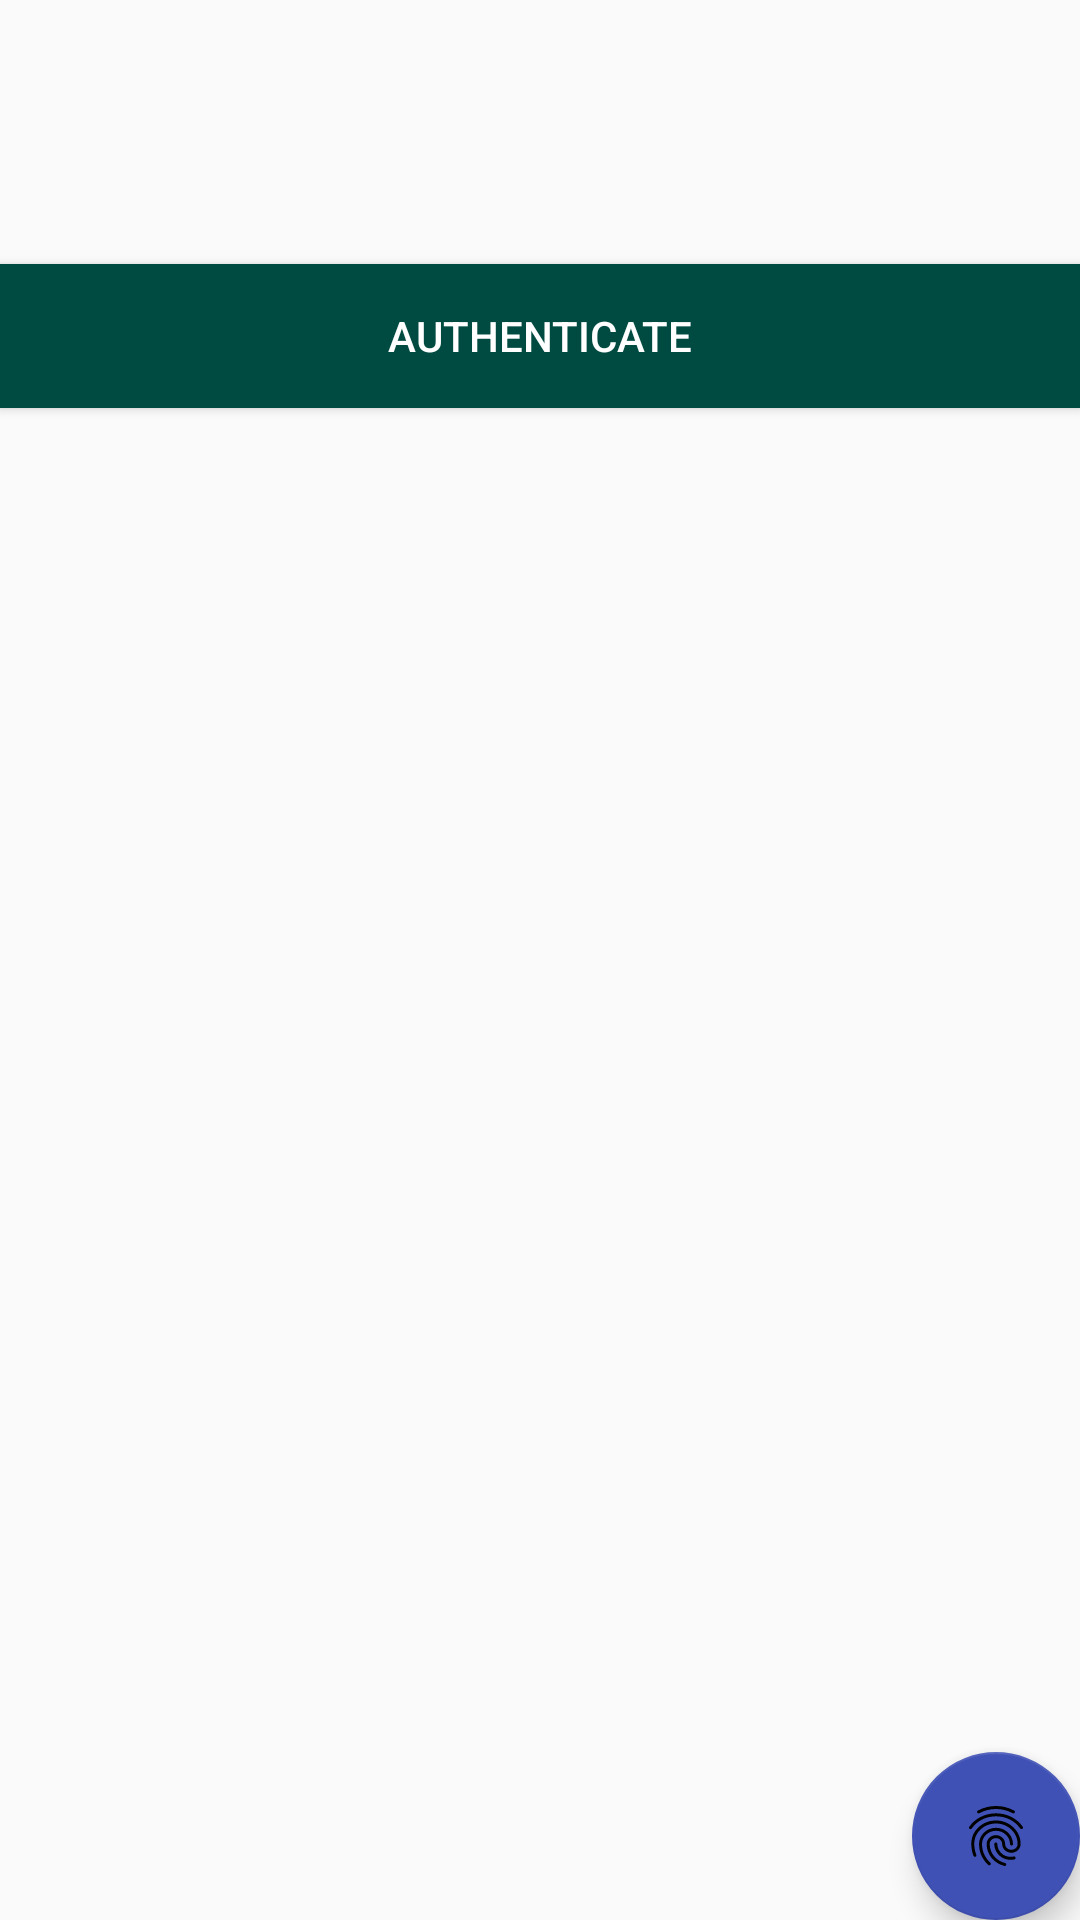

Point at icon controls on the screen. Image size 1080x1920, points as [x,y].
fingerprint: [996,1836]
